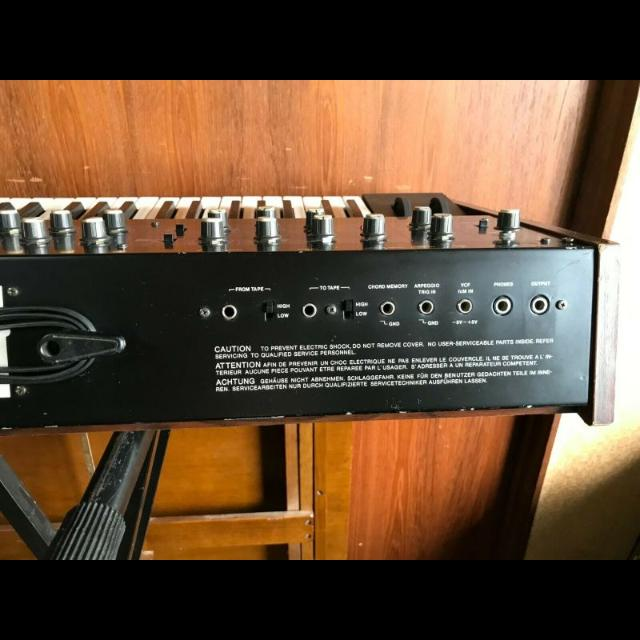Electronic-Keyboard: (18, 186, 620, 434)
